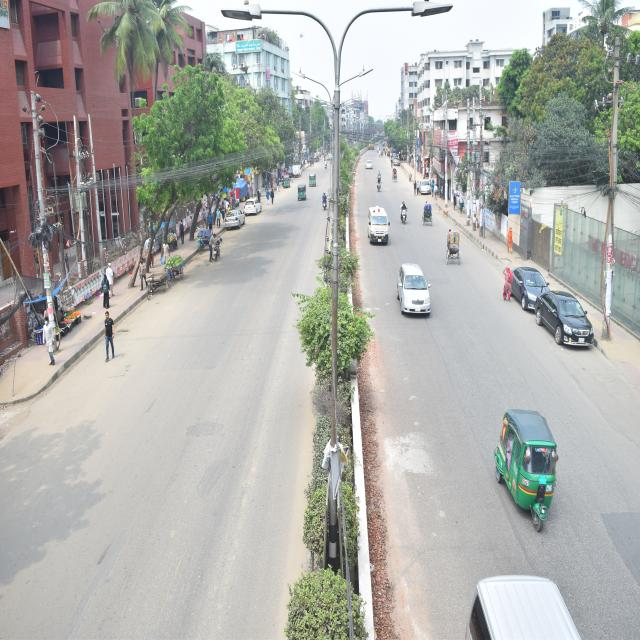car: (536, 286, 596, 352), (394, 260, 432, 320), (506, 264, 552, 305), (222, 208, 246, 230), (243, 198, 264, 216)
microbus: (464, 570, 589, 640), (368, 204, 392, 246)
motorbike: (399, 195, 410, 224), (320, 189, 330, 212)
